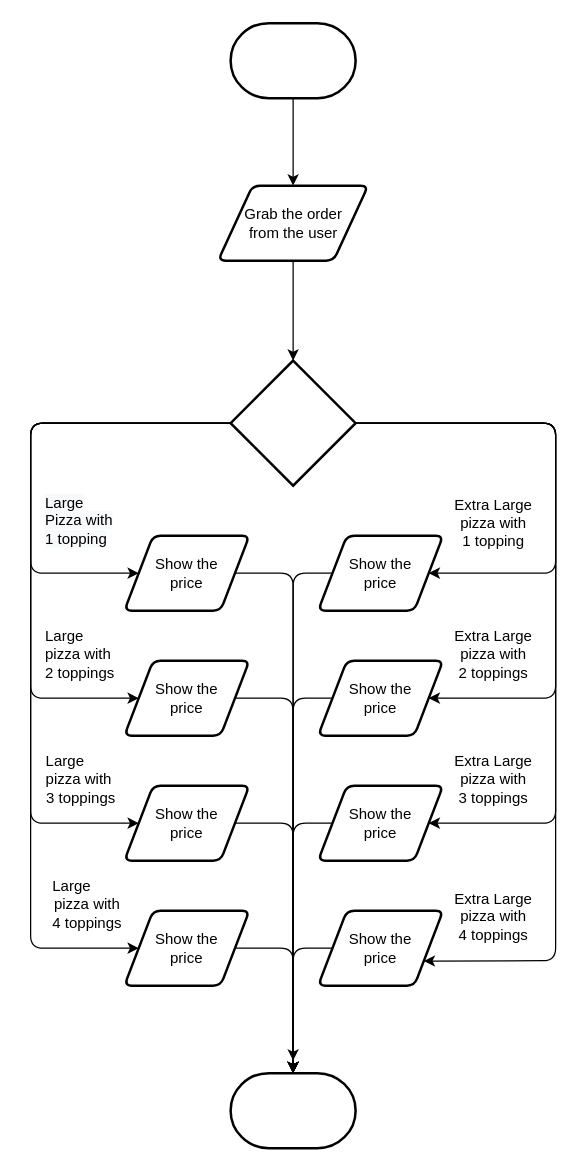
This 588x1170 diagram has some shape labels left out. The shapes that lost their labels are listed below. From the top down, each one's box as (x1, y1, x2, y2) in pixels, then its label:
(229, 21, 356, 99): Start
(229, 359, 356, 486): Order is placed
(229, 1071, 356, 1149): Stop
